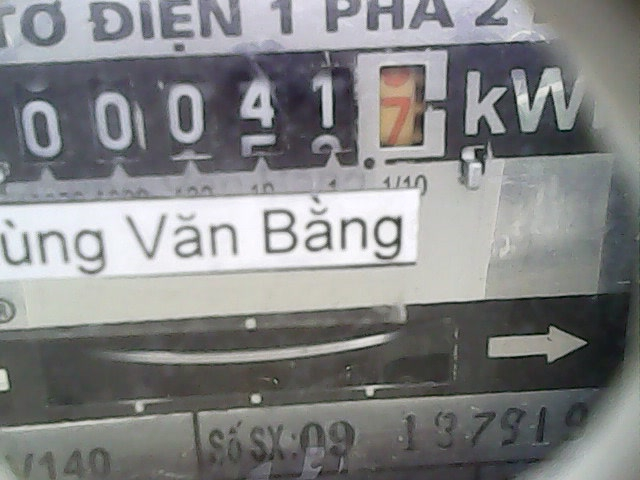phy_plate: (7, 48, 454, 167)
